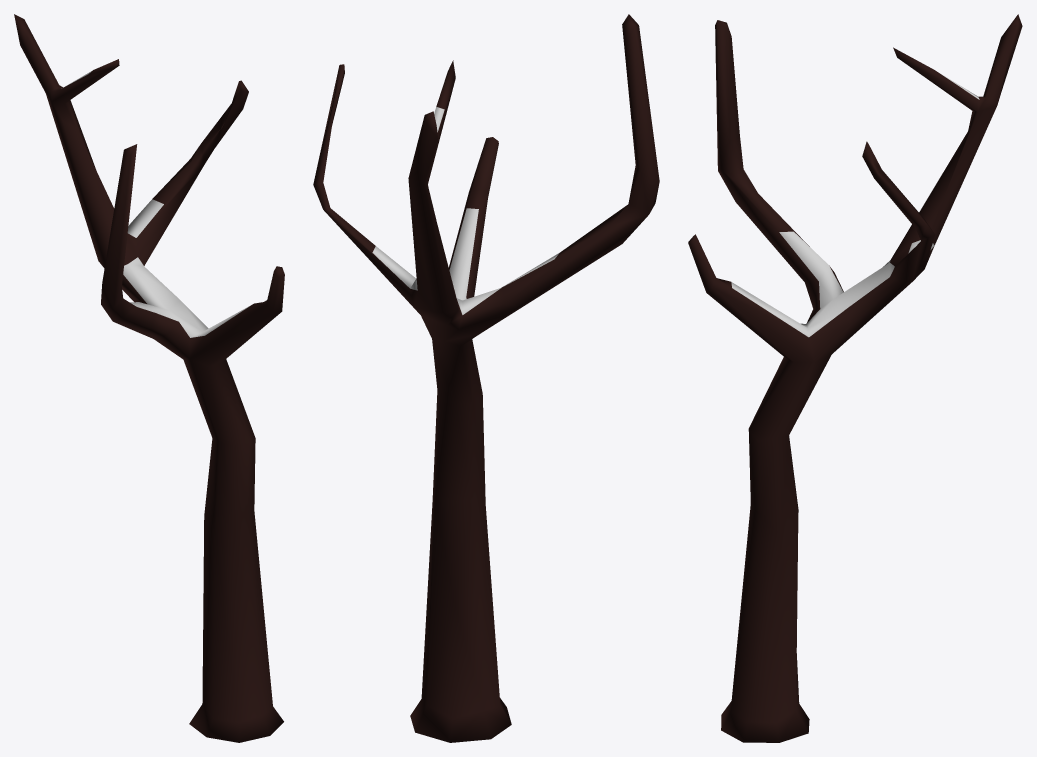
Rendered from CommonTree_Dead_Snow_4.fbx.
The picture shows the model from 3 angles, left to right: view 1: azimuth 30°, elevation 25°; view 2: azimuth 150°, elevation 25°; view 3: azimuth 270°, elevation 25°; orthographic projection. The views are drawn at different scales.
Visible parts, largest first — view 1: CommonTree_Dead_Snow_4; view 2: CommonTree_Dead_Snow_4; view 3: CommonTree_Dead_Snow_4.
Boxes of the visible parts, left/top/right/bottom form: CommonTree_Dead_Snow_4: left=14, top=14, right=284, bottom=742; CommonTree_Dead_Snow_4: left=313, top=14, right=659, bottom=742; CommonTree_Dead_Snow_4: left=688, top=14, right=1022, bottom=742.
Bounding box in the file's own units: 312 × 412 × 901.
